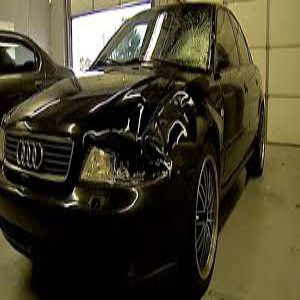bonnet: (79, 84, 199, 144)
